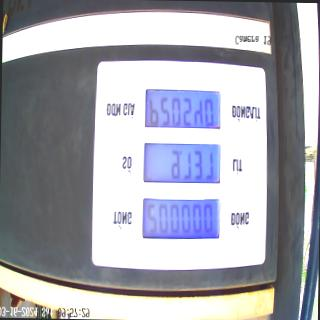screen: (140, 86, 224, 243)
